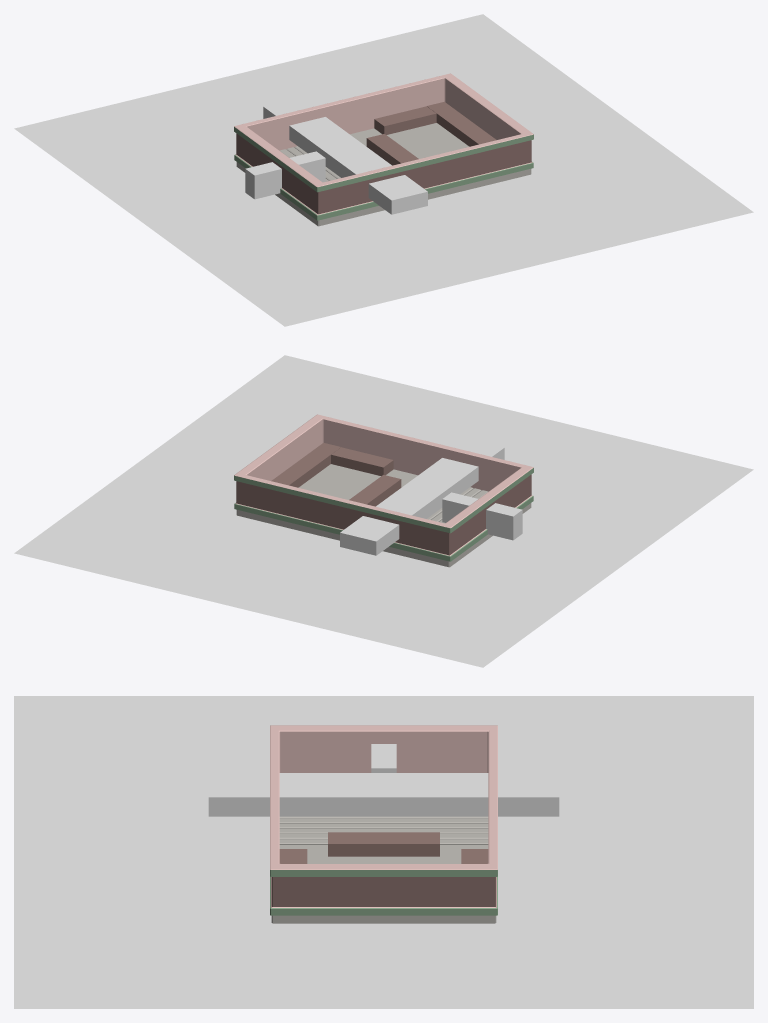
The model's file is coffee_shop.fbx.
The picture shows the model from 3 angles, top to bottom: view 1: azimuth 30°, elevation 25°; view 2: azimuth 150°, elevation 25°; view 3: azimuth 270°, elevation 25°; orthographic projection. The views are drawn at different scales.
Visible parts, largest first — view 1: Plane.001, walls, Cube.001, Plane, Cube, back_counter, left_counter, front_counter; view 2: Plane.001, walls, Cube.001, Plane, Cube, back_counter, right_counter, front_counter; view 3: Plane.001, walls, Cube.001, planks, Plane, front_counter, Cube.
Part boxes in pixels (left/top/right/bottom): Plane.001: left=14, top=14, right=753, bottom=326; walls: left=234, top=73, right=533, bottom=220; Cube.001: left=263, top=98, right=427, bottom=214; Plane: left=236, top=123, right=531, bottom=226; Cube: left=245, top=151, right=325, bottom=199; back_counter: left=427, top=101, right=496, bottom=146; left_counter: left=374, top=106, right=436, bottom=134; front_counter: left=366, top=134, right=418, bottom=165; Plane.001: left=14, top=355, right=753, bottom=667; walls: left=234, top=414, right=533, bottom=561; Cube.001: left=340, top=439, right=504, bottom=555; Plane: left=236, top=464, right=531, bottom=567; Cube: left=442, top=492, right=522, bottom=540; back_counter: left=271, top=442, right=340, bottom=487; right_counter: left=331, top=447, right=393, bottom=475; front_counter: left=349, top=475, right=401, bottom=506; Plane.001: left=14, top=696, right=753, bottom=1008; walls: left=270, top=725, right=497, bottom=915; Cube.001: left=208, top=773, right=559, bottom=816; planks: left=279, top=816, right=488, bottom=844; Plane: left=271, top=845, right=496, bottom=923; front_counter: left=328, top=832, right=439, bottom=856; Cube: left=371, top=720, right=396, bottom=772.
Size of the model in its own units: 1318 by 109 by 1318.
